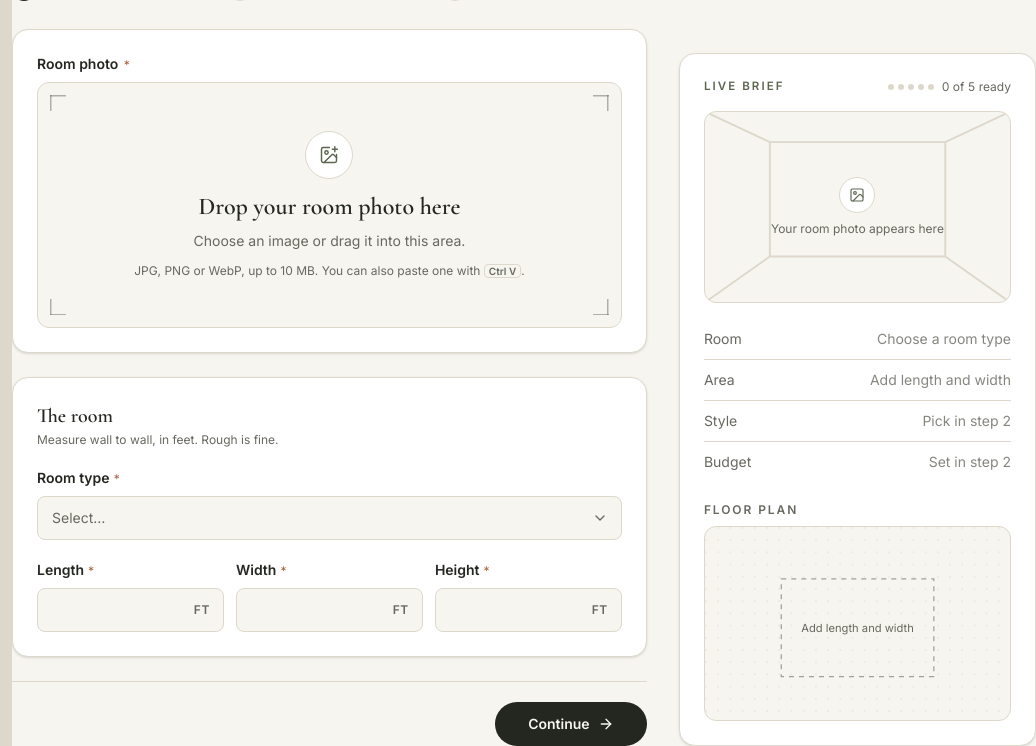
Test: RoomForm › will not continue with missing details, and says what is missing
(page scrolled)
Click the button "Continue" at (571, 724), box left=495, top=702, right=647, bottom=745
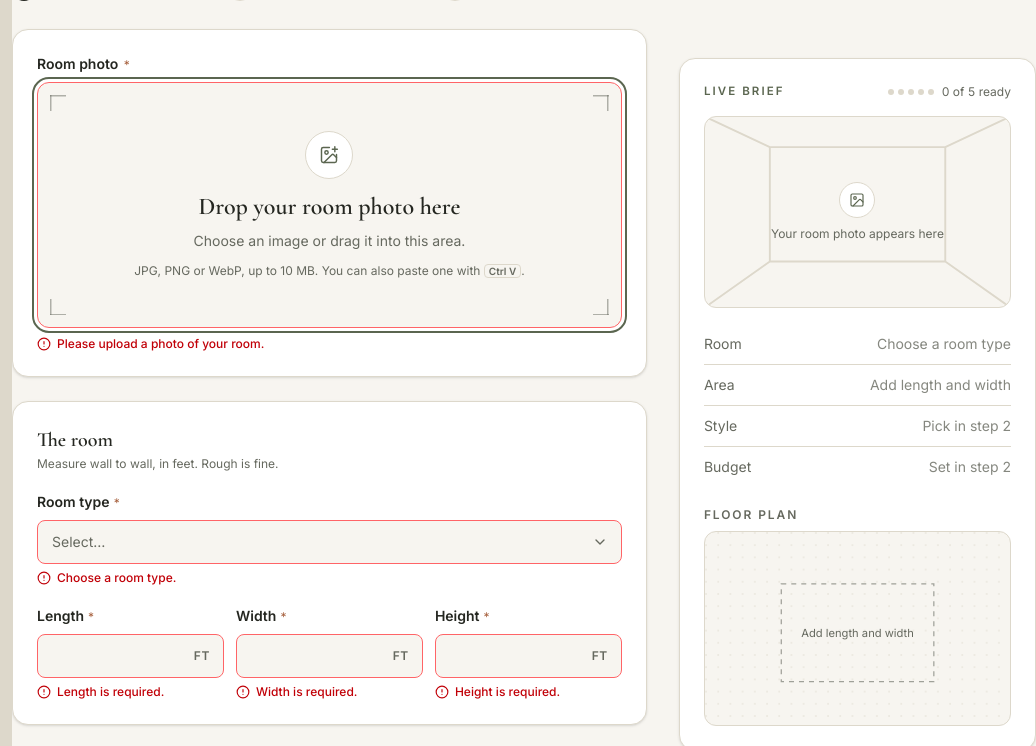
Check: the text "Please upload a photo of your room." is shown, box left=37, top=336, right=264, bottom=351
